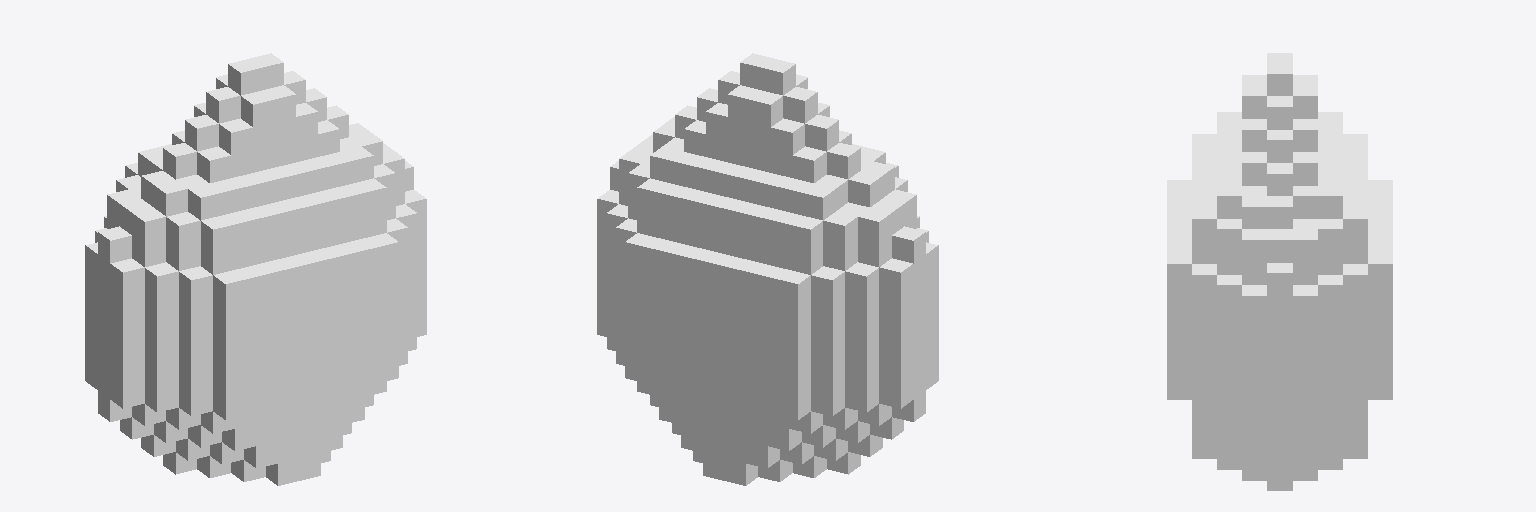
File: flint.obj
The picture shows the model from 3 angles: view 1: azimuth 30°, elevation 25°; view 2: azimuth 150°, elevation 25°; view 3: azimuth 270°, elevation 25°; orthographic projection.
Parts seen in each view (by area): view 1: object 1; view 2: object 1; view 3: object 1.
Boxes of the visible parts, <box> form: object 1: <box>85,53,426,485</box>; object 1: <box>597,53,938,485</box>; object 1: <box>1167,53,1392,490</box>.
Bounding box in the file's own units: 1.4 × 1.7 × 0.9.